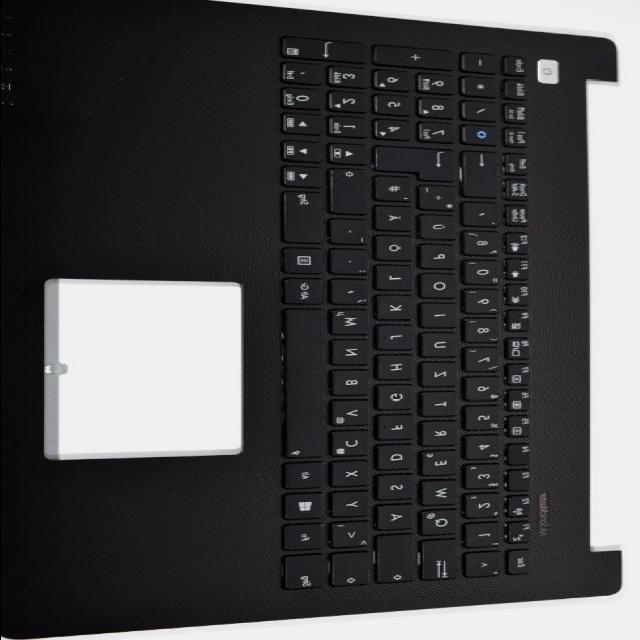0: (465, 261, 504, 287)
1: (465, 524, 504, 550)
2: (467, 494, 506, 520)
3: (465, 466, 505, 492)
4: (465, 436, 504, 462)
5: (465, 407, 504, 433)
6: (465, 378, 505, 404)
7: (465, 348, 505, 374)
8: (465, 319, 504, 345)
9: (465, 290, 504, 316)
a: (376, 506, 418, 532)
accent: (464, 204, 503, 229)
ae: (375, 207, 415, 233)
alt-left: (285, 463, 328, 490)
altgr-right: (284, 279, 328, 308)
b: (334, 371, 374, 397)
c: (332, 431, 374, 459)
caret: (466, 553, 504, 579)
comma: (332, 281, 371, 307)
d: (376, 445, 418, 472)
del: (464, 153, 506, 199)
e: (422, 451, 462, 477)
enter: (378, 149, 463, 183)
f: (378, 416, 418, 442)
g: (378, 385, 418, 412)
h: (378, 355, 418, 381)
hash: (375, 177, 417, 203)
i: (422, 304, 461, 330)
j: (376, 326, 418, 352)
k: (376, 296, 419, 322)
keyboard: (264, 28, 546, 598)
l: (377, 266, 417, 292)
less: (332, 523, 372, 550)
m: (331, 310, 374, 337)
minus: (332, 220, 371, 246)
n: (332, 340, 374, 368)
o: (422, 274, 461, 300)
oe: (377, 236, 417, 262)
p: (421, 246, 461, 271)
plus: (420, 187, 460, 213)
point: (332, 251, 371, 277)
q: (422, 510, 462, 538)
r: (421, 422, 463, 448)
s: (377, 476, 417, 502)
shift-left: (332, 554, 374, 590)
shift-lock: (378, 536, 421, 585)
shift-right: (332, 169, 372, 216)
space: (286, 310, 330, 460)
ss: (464, 232, 503, 258)
strg-left: (285, 555, 329, 591)
strg-right: (285, 190, 327, 244)
t: (422, 394, 461, 418)
tab: (422, 541, 464, 583)
u: (421, 333, 463, 359)
ue: (421, 216, 461, 242)
v: (332, 402, 374, 428)
w: (422, 481, 464, 507)
x: (332, 462, 374, 488)
y: (332, 493, 372, 519)
z: (422, 363, 461, 389)
